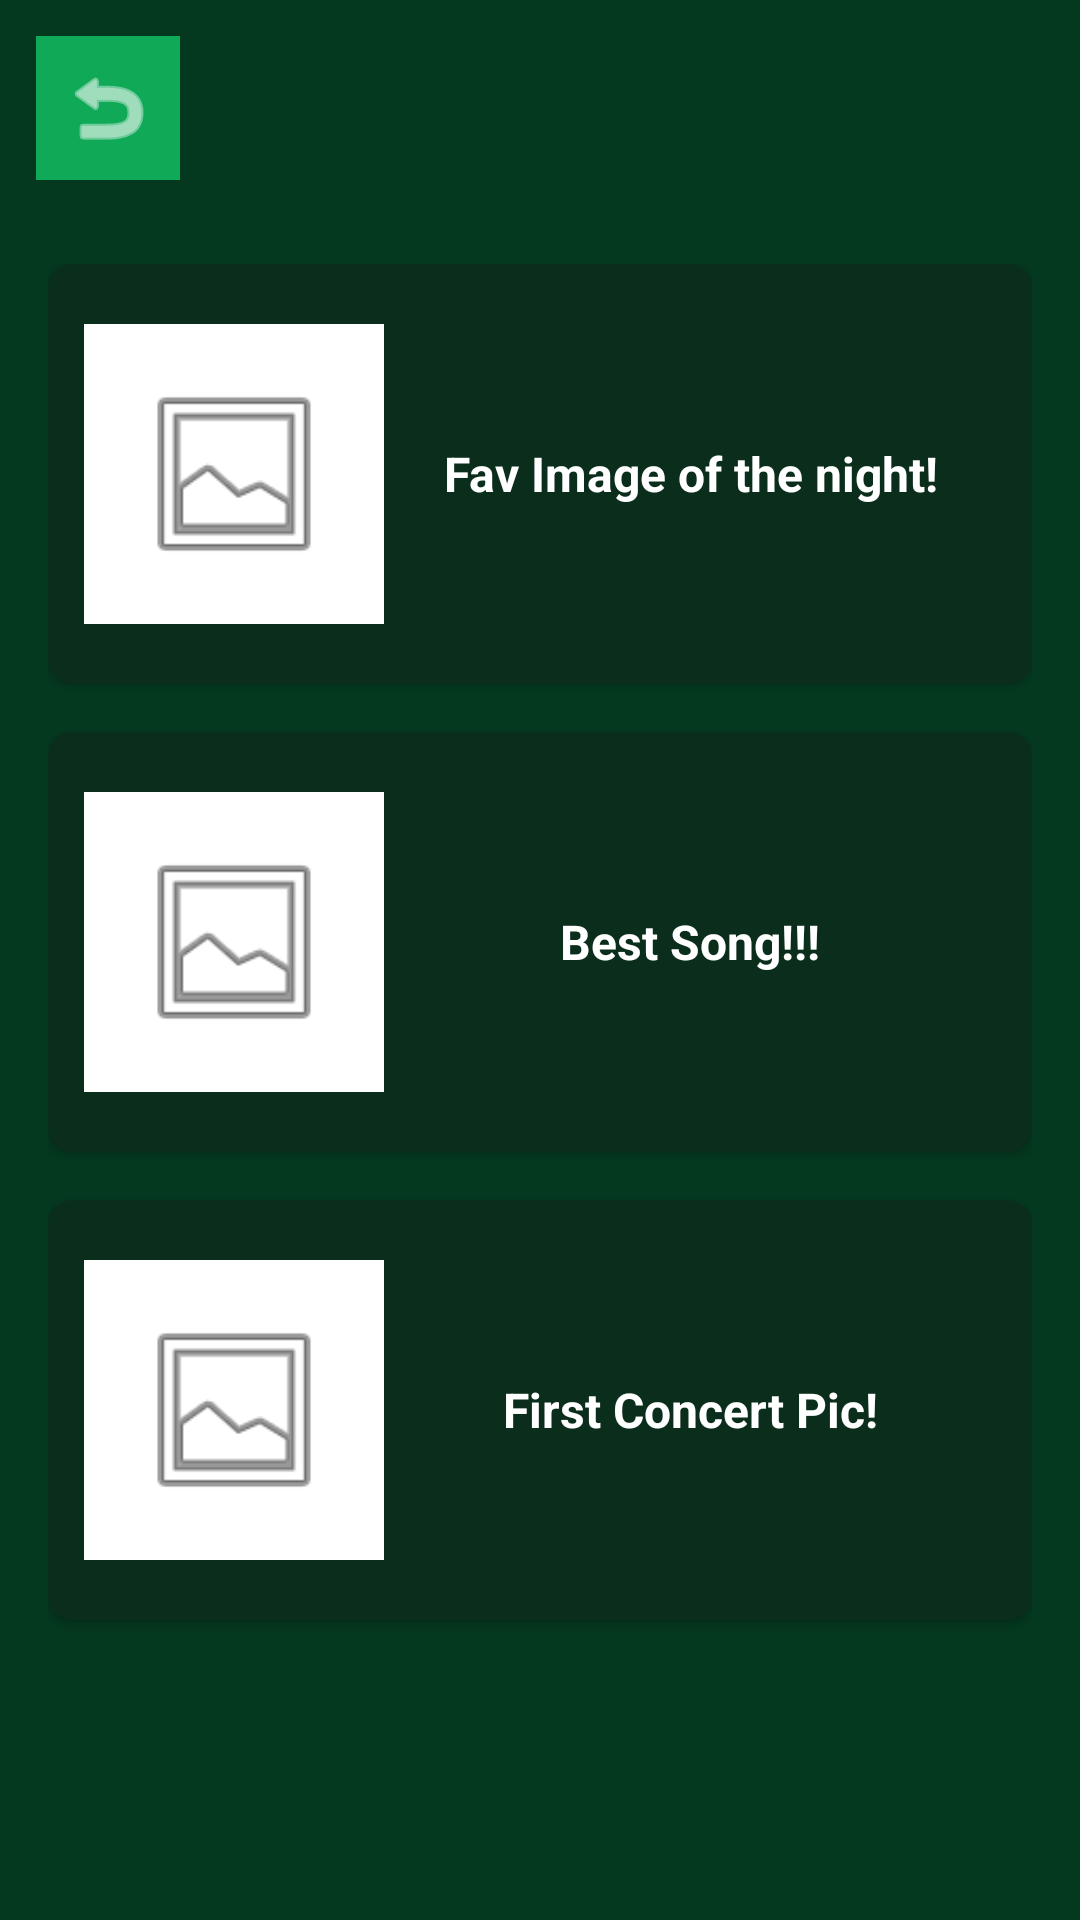

Screen size 1080×1920. Icon name, then its center in pixels as [x,y]:
Back: [108,108]
